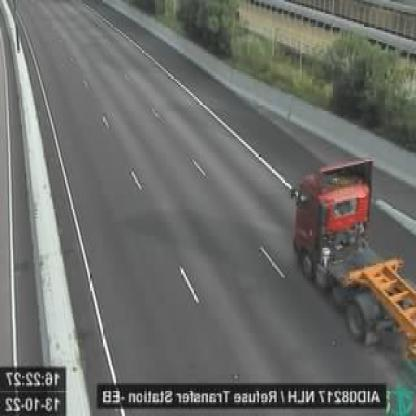Truck: (294, 157, 414, 375)
